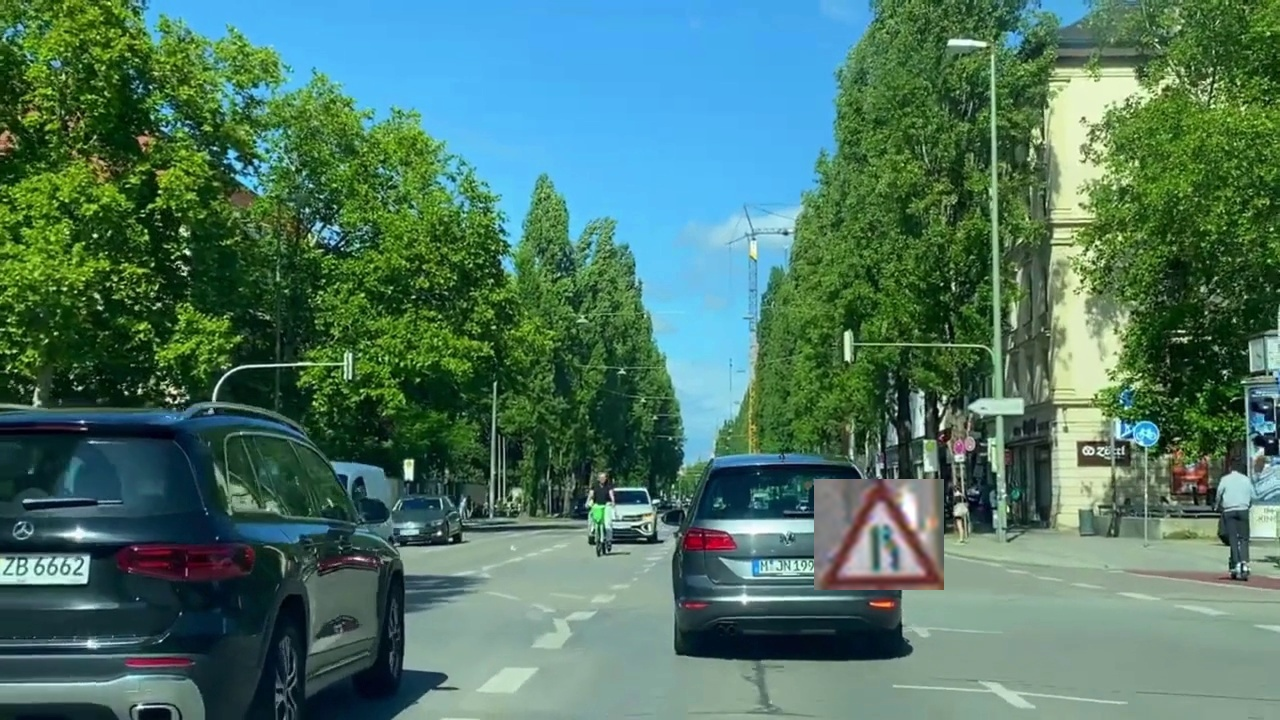Road narrows: (814, 479, 944, 590)
